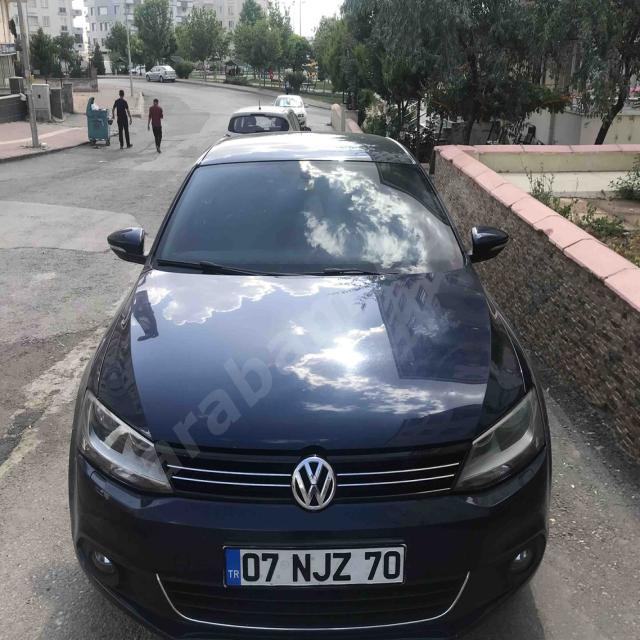license_plate: (223, 546, 406, 586)
